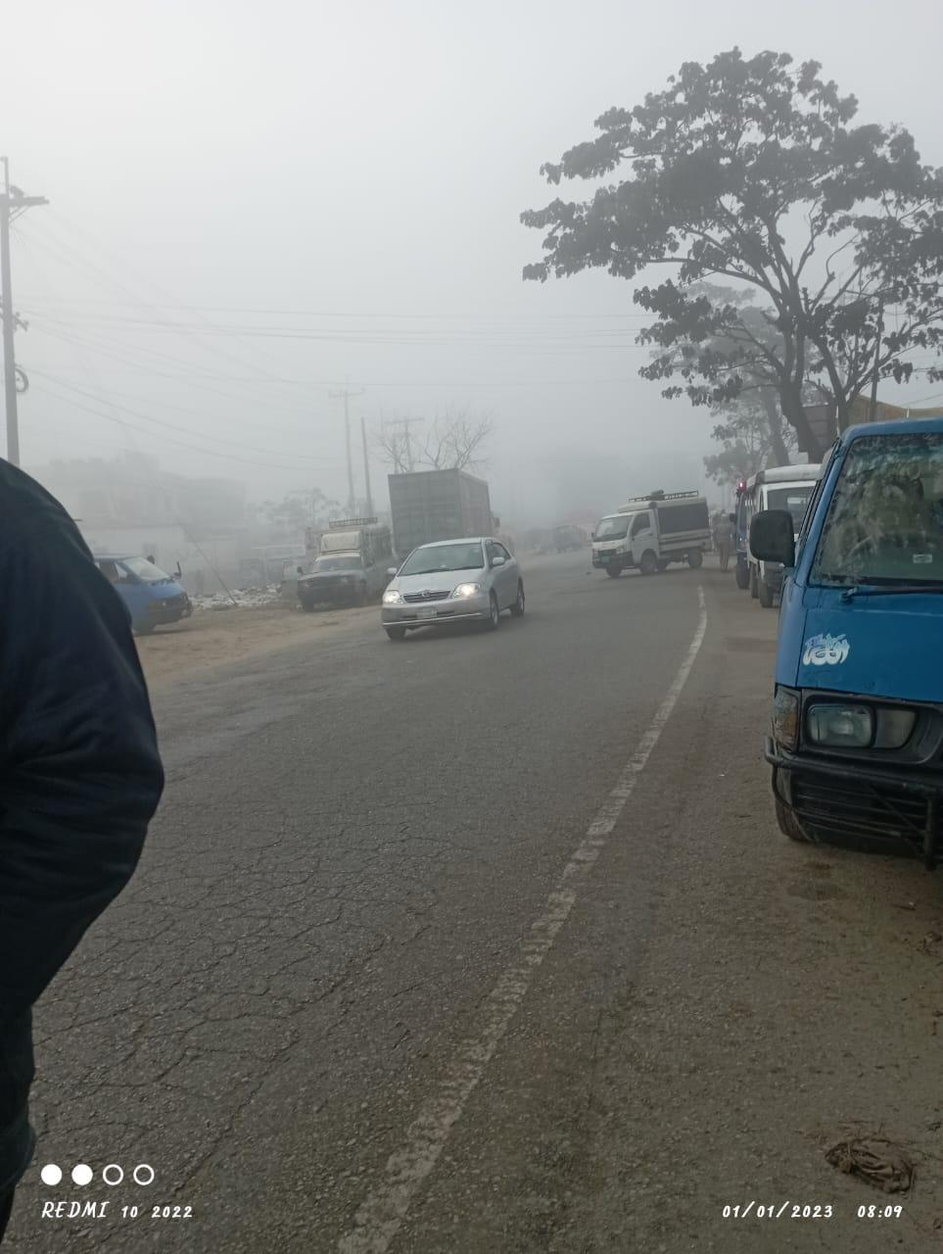Car: (750, 404, 943, 869), (361, 540, 538, 635), (573, 482, 719, 577), (295, 508, 376, 636)
Truck: (374, 461, 507, 563)
